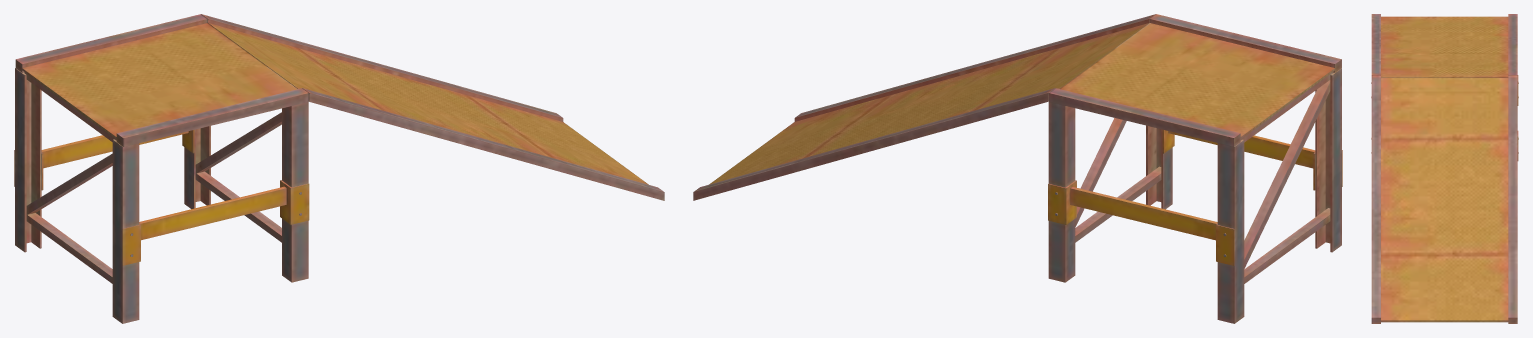
File: ss-rack-ramp.lod0.glb
The picture shows the model from 3 angles, left to right: view 1: azimuth 30°, elevation 25°; view 2: azimuth 150°, elevation 25°; view 3: azimuth 270°, elevation 25°; orthographic projection. The views are drawn at different scales.
Visible parts, largest first — view 1: PalletRacking_staircase_2_PalletRacking_staircase_2_0; view 2: PalletRacking_staircase_2_PalletRacking_staircase_2_0; view 3: PalletRacking_staircase_2_PalletRacking_staircase_2_0.
Boxes of the visible parts, x1,y1,x2,y2 form: PalletRacking_staircase_2_PalletRacking_staircase_2_0: [14, 14, 664, 323]; PalletRacking_staircase_2_PalletRacking_staircase_2_0: [693, 14, 1342, 323]; PalletRacking_staircase_2_PalletRacking_staircase_2_0: [1371, 14, 1518, 323].
Size of the model in its own units: 6.4 by 2.2 by 2.23.
Materials: 1 (1 with a texture image).
